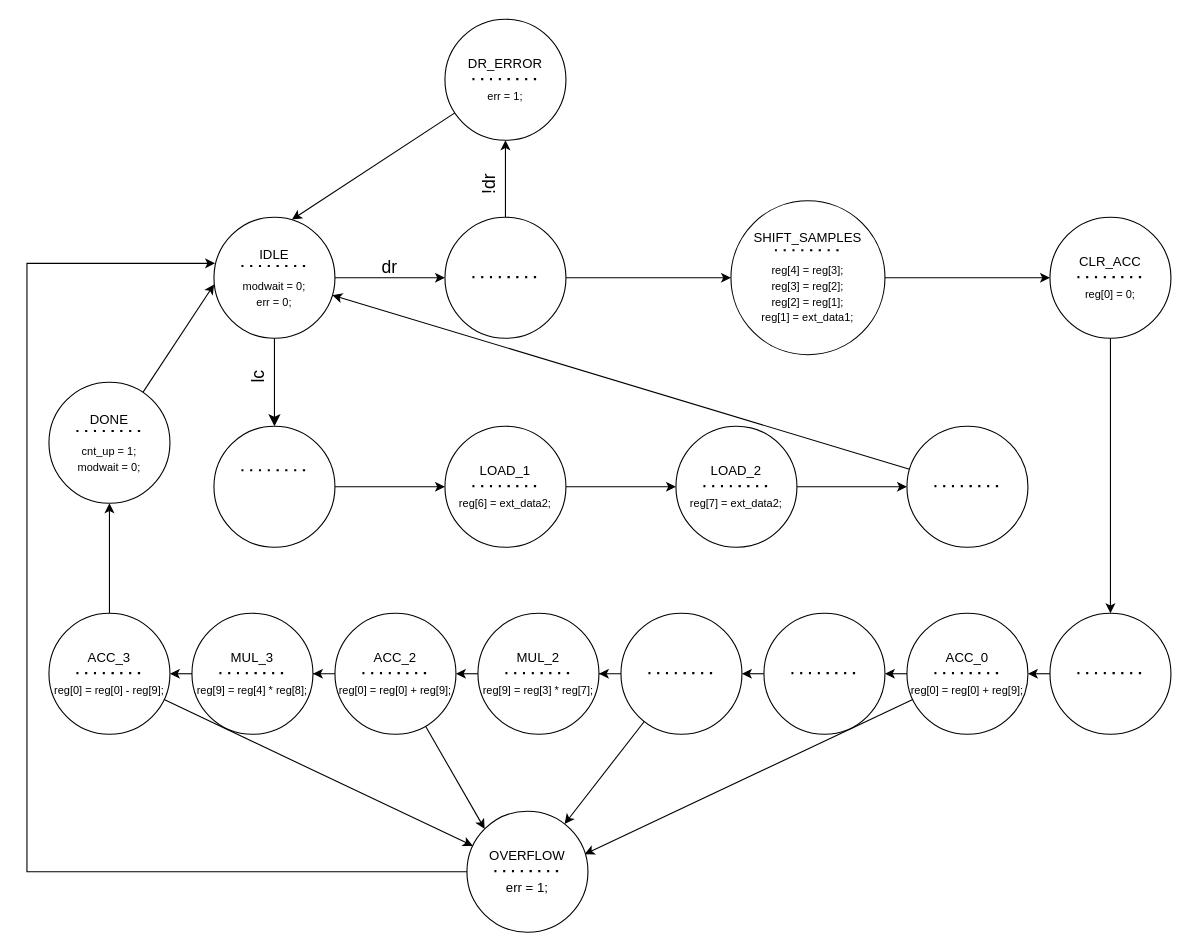
This 1190x952 diagram has some shape labels left out. The box of each missing label's shape, as (x1, y1, x2, y2) in pixels:
ACC_1 reg[0] = reg[0] - reg[9];: (620, 612, 742, 734)
CHECK_DR reg[6] = ext_data2;: (444, 216, 566, 338)
LOAD_3 reg[8] = ext_data2;: (906, 425, 1028, 547)
LOAD_F0 modwait = 1; clear = 1; reg[5] = ext_data2;: (213, 425, 335, 547)
MUL_0 reg[9] = reg[1] * reg[5];: (1049, 612, 1171, 734)
MUL_1 reg[9] = reg[2] * reg[6];: (763, 612, 885, 734)
